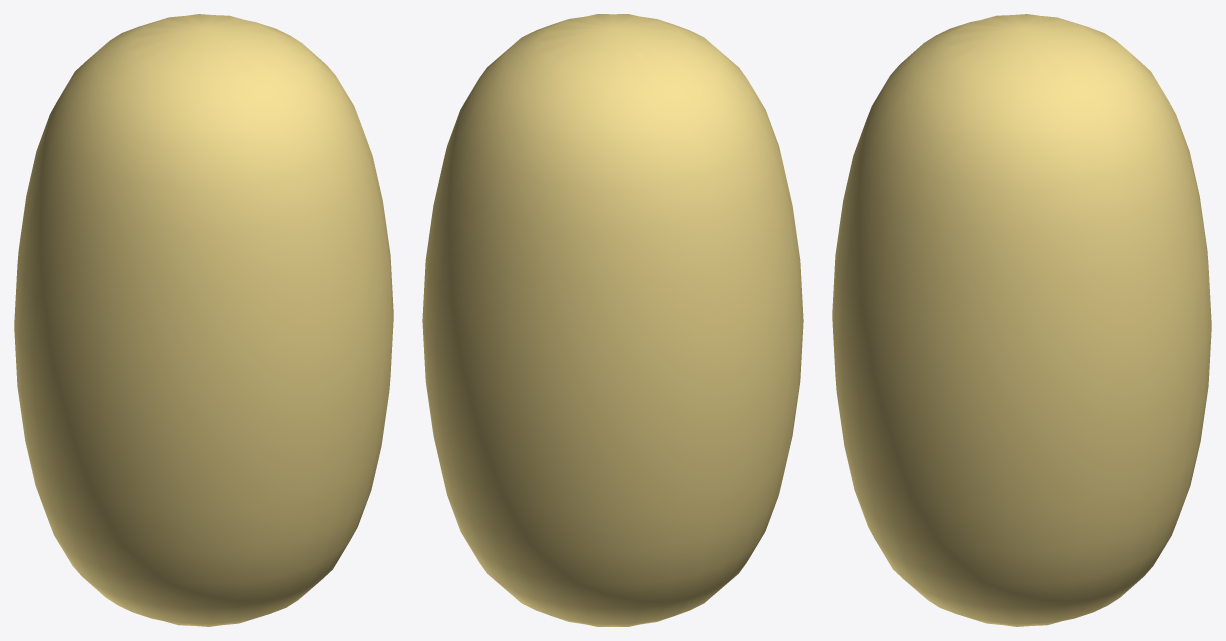
3 views of the same model, side by side, from view 1: azimuth 30°, elevation 25°; view 2: azimuth 150°, elevation 25°; view 3: azimuth 270°, elevation 25° (orthographic).
Parts seen in each view (by area): view 1: ZA_02130795e0778bdb; view 2: ZA_02130795e0778bdb; view 3: ZA_02130795e0778bdb.
Part boxes in pixels (x1,y1,x2,y2): ZA_02130795e0778bdb: [14, 14, 393, 626]; ZA_02130795e0778bdb: [422, 14, 803, 626]; ZA_02130795e0778bdb: [832, 14, 1211, 626].
Size of the model in its own units: 0.0019 by 0.00323 by 0.0019.
